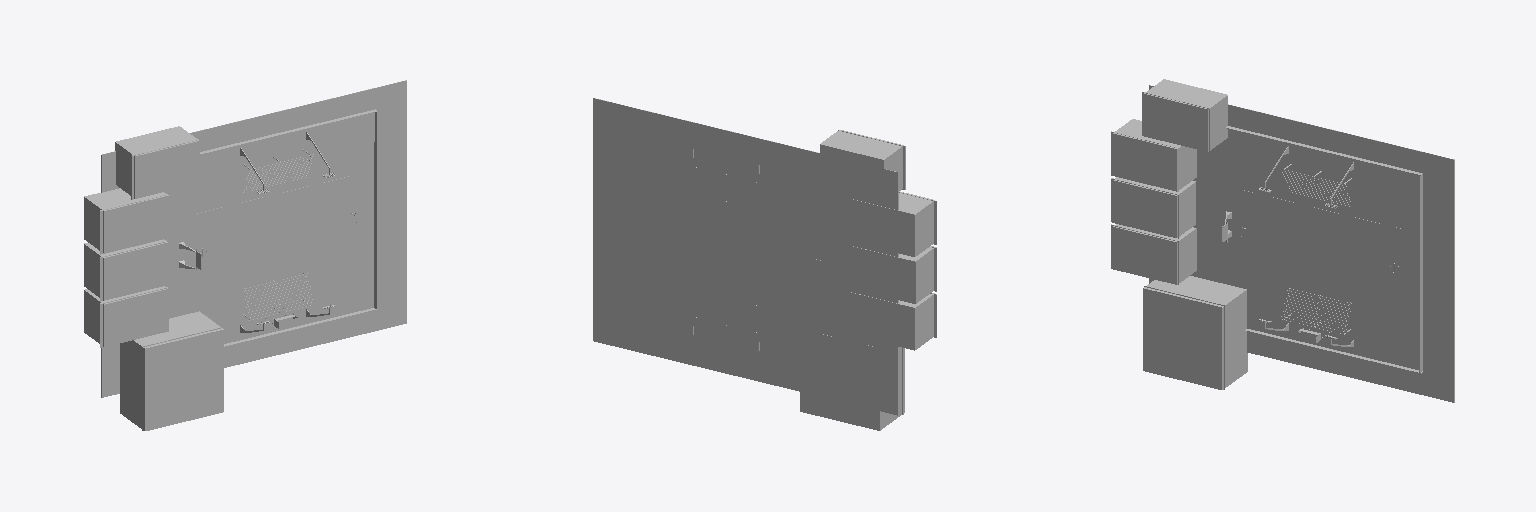
Rendered from stadium.obj.
3 renders of one model, left to right at view 1: azimuth 30°, elevation 25°; view 2: azimuth 150°, elevation 25°; view 3: azimuth 330°, elevation 25°, orthographic.
Bounding box in the file's own units: 614 × 495 × 84.23.